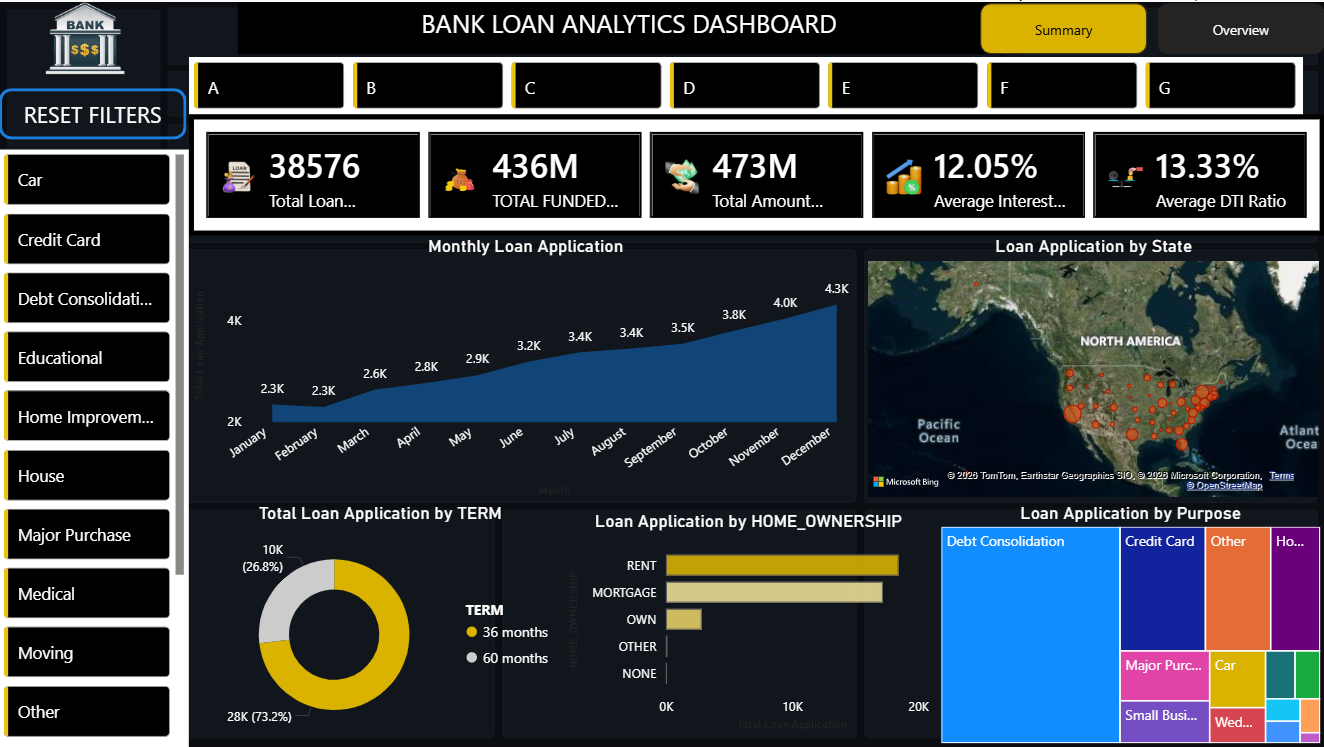

The dashboard page shown, as its layout file describes it:
{"tool":"powerbi","page":{"name":"Overview","canvas":[1280,720],"ordinal":1},"visuals":[{"type":"cardVisual","fields":{"Data":["financial_loan.Total Loan Application","financial_loan.TOTAL FUNDED AMOUNT","financial_loan.Total Amount Recieved","financial_loan.Average Interest Rate","financial_loan.Average DTI Rate"]},"box":[183.4,108.6,1096.7,117],"z":0},{"type":"image","box":[0,0,166.5,70],"z":1000},{"type":"advancedSlicerVisual","fields":{"Values":["financial_loan.PURPOSE"]},"box":[0,142.4,183.4,577.9],"z":2000},{"type":"advancedSlicerVisual","fields":{"Values":["financial_loan.GRADE"]},"box":[183.4,53.1,1074.9,55.5],"z":3000},{"type":"actionButton","box":[0,83.2,181,49.5],"z":4000},{"type":"textbox","box":[230.4,0,755.2,50.7],"z":5000},{"type":"pageNavigator","box":[947,1.2,333,49.5],"z":6000},{"type":"lineChart","title":"Monthly Loan Application ","fields":{"Category":["financial_loan.ISSUE_DATE.Variation.Date Hierarchy.Year","financial_loan.ISSUE_DATE.Variation.Date Hierarchy.Quarter","financial_loan.ISSUE_DATE.Variation.Date Hierarchy.Month","financial_loan.ISSUE_DATE.Variation.Date Hierarchy.Day"],"Y":["financial_loan.Total Loan Application"]},"box":[183.4,225.6,650.3,257],"z":7000},{"type":"donutChart","fields":{"Category":["financial_loan.TERM"],"Y":["financial_loan.Total Loan Application"]},"box":[192.1,483,352.7,237.4],"z":8000},{"type":"clusteredBarChart","title":" Loan Application by HOME_OWNERSHIP","fields":{"Category":["financial_loan.HOME_OWNERSHIP"],"Y":["financial_loan.Total Loan Application"]},"box":[544.1,491,358.3,217.2],"z":9000},{"type":"treemap","title":" Loan Application by Purpose","fields":{"Group":["financial_loan.PURPOSE"],"Values":["financial_loan.Total Loan Application"]},"box":[904.8,482.6,375.2,237.7],"z":10000},{"type":"map","title":"Loan Application by State","fields":{"Category":["financial_loan.ADDRESS_STATE"],"Size":["financial_loan.Total Loan Application"]},"box":[833.7,225.6,446.4,257],"z":11000}]}

Visuals, with their boxes in screenshot pixels (x1, y1, x2, y2), scaled from the page's 1280x720 canvas onto the 1324x747 screenshot:
cardVisual - financial_loan.Total Loan Application x financial_loan.TOTAL FUNDED AMOUNT: pyautogui.locateOnScreen(190, 113, 1323, 234)
image: pyautogui.locateOnScreen(0, 0, 172, 73)
advancedSlicerVisual - financial_loan.PURPOSE: pyautogui.locateOnScreen(0, 148, 190, 746)
advancedSlicerVisual - financial_loan.GRADE: pyautogui.locateOnScreen(190, 55, 1302, 113)
actionButton: pyautogui.locateOnScreen(0, 86, 187, 138)
textbox: pyautogui.locateOnScreen(238, 0, 1019, 53)
pageNavigator: pyautogui.locateOnScreen(980, 1, 1323, 53)
"Monthly Loan Application " lineChart: pyautogui.locateOnScreen(190, 234, 862, 501)
donutChart - financial_loan.TERM x financial_loan.Total Loan Application: pyautogui.locateOnScreen(199, 501, 564, 746)
" Loan Application by HOME_OWNERSHIP" clusteredBarChart: pyautogui.locateOnScreen(563, 509, 933, 735)
" Loan Application by Purpose" treemap: pyautogui.locateOnScreen(936, 501, 1323, 746)
"Loan Application by State" map: pyautogui.locateOnScreen(862, 234, 1323, 501)
